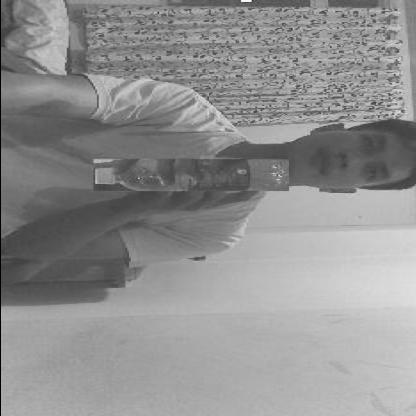plastic_bottles: (92, 159, 288, 191)
